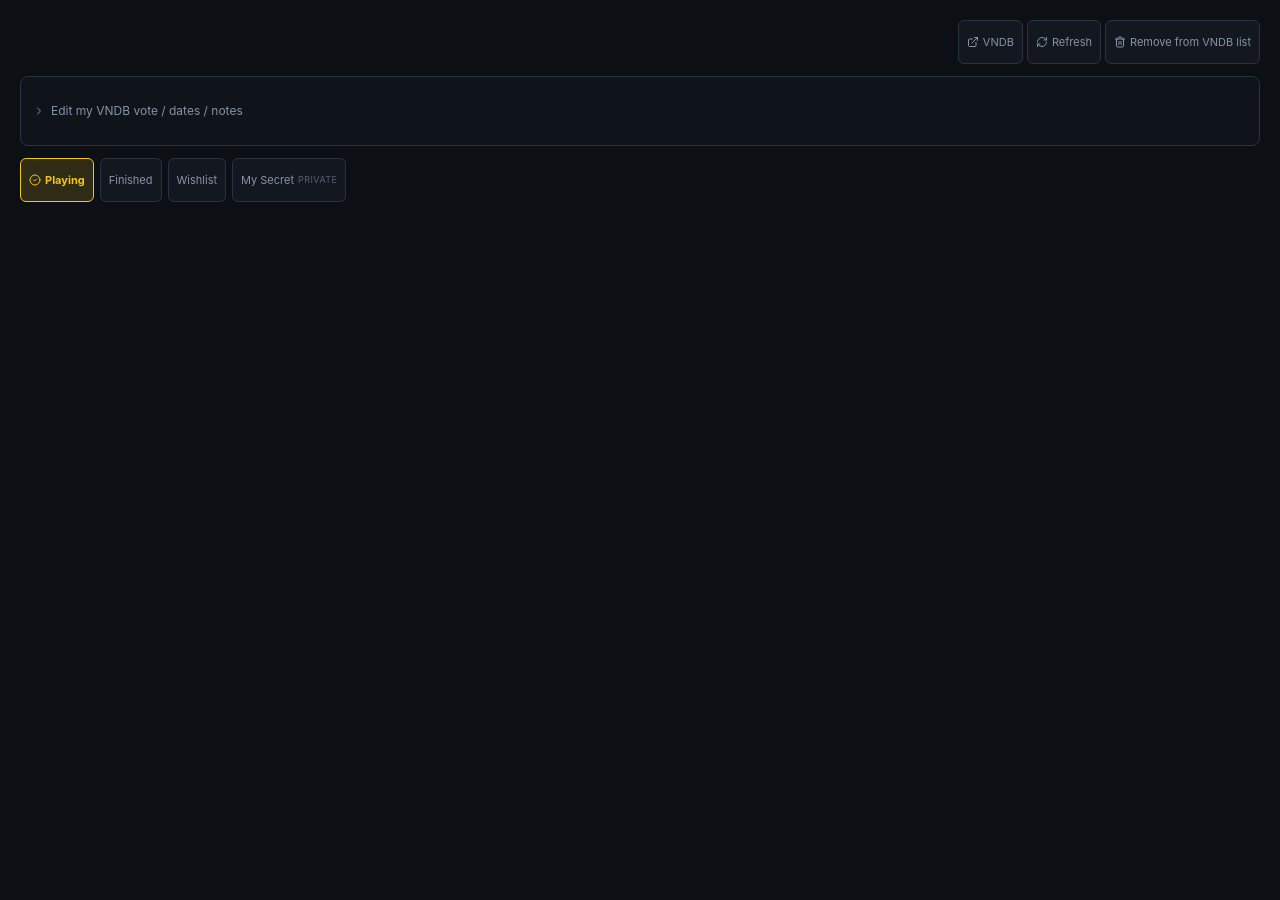
Test case: VndbStatusPanel branches › surfaces a localized toast error when a label toggle fails
Click the button "Finished": [131, 180] box [100,158,162,202]
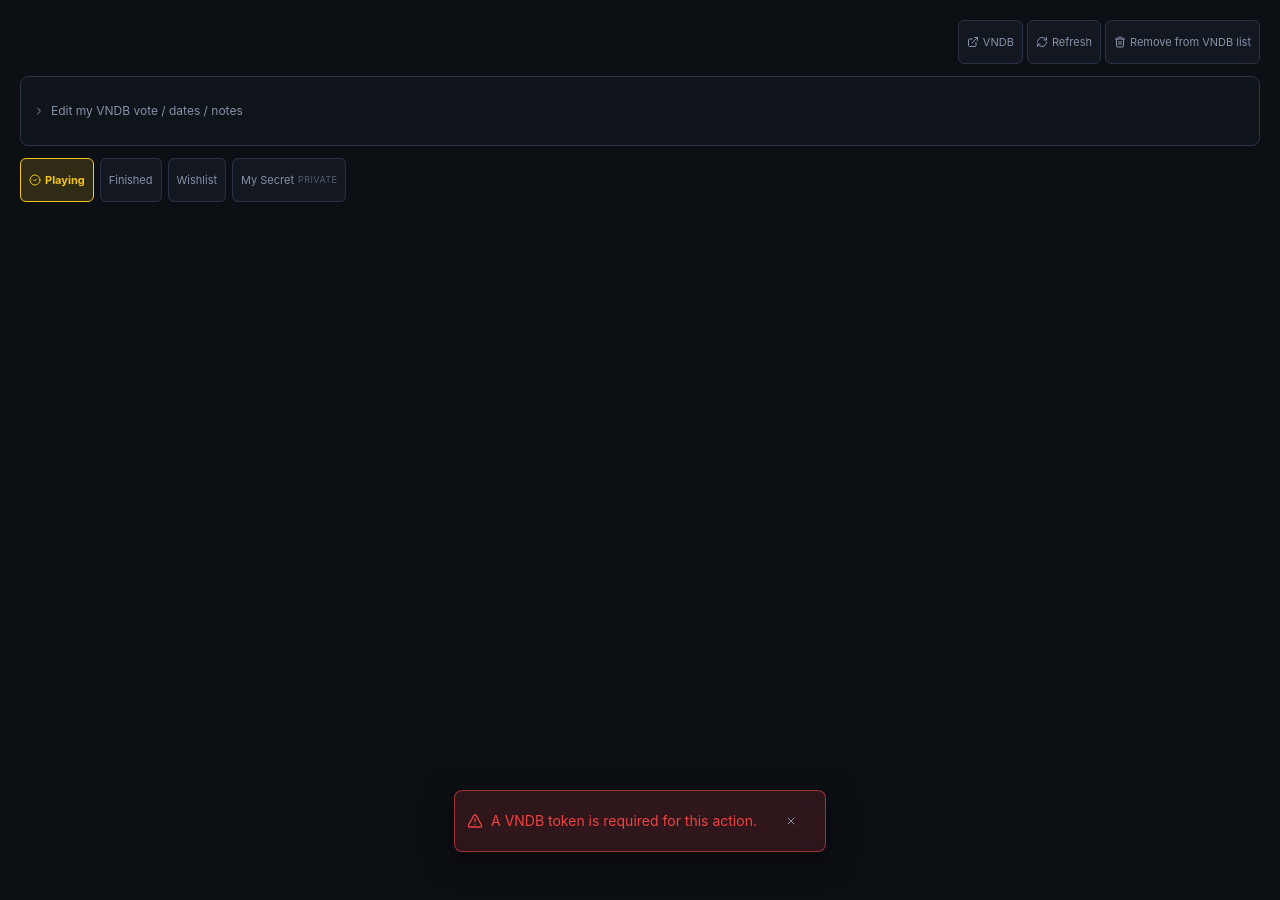
Check: the text "A VNDB token is required for this action." is shown, box [491,811,757,831]
